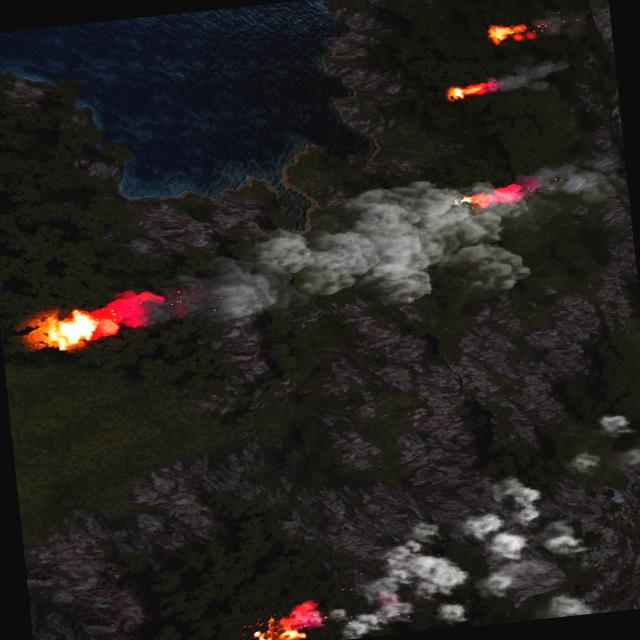fire: (31, 303, 111, 353), (247, 600, 323, 640), (461, 180, 525, 210), (486, 20, 530, 44), (447, 79, 492, 102)
smoke: (100, 144, 630, 342), (280, 409, 640, 640), (493, 58, 572, 100), (524, 9, 594, 44)
